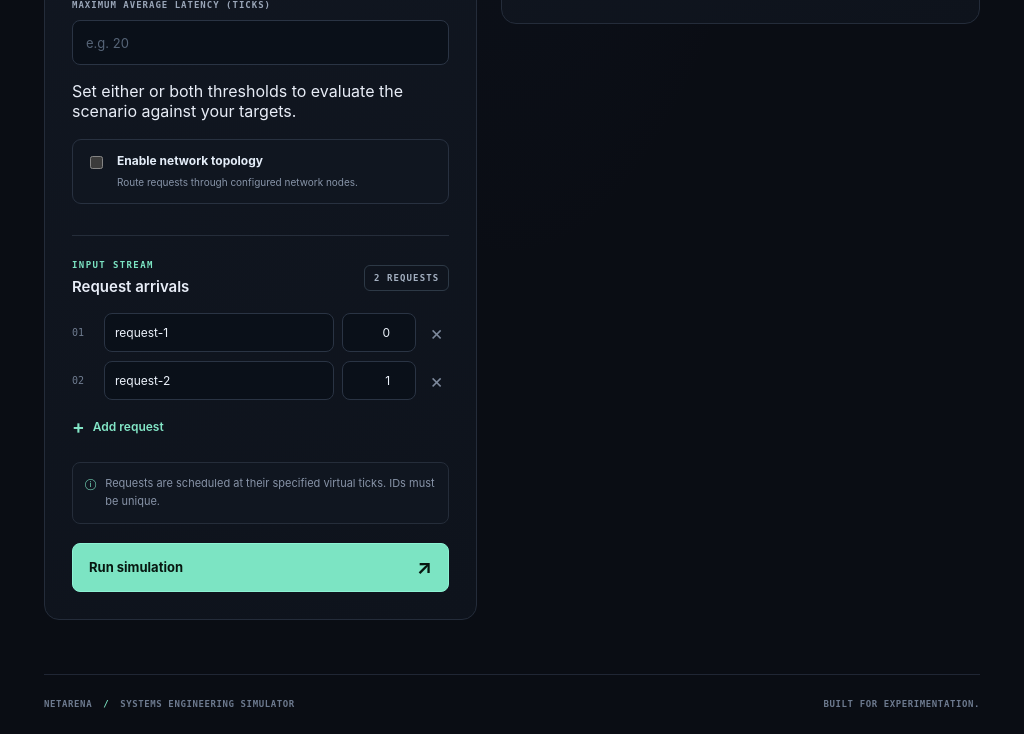
Test case: NetArena dashboard › renders failing objective evaluation
The width and height of the screenshot is (1024, 734).
(page scrolled)
What coordinates should you click on to do the following:
click the button "Run simulation ↗"
I would click on:
 (136, 567)
Its box is [72,543,449,592].
(page scrolled)
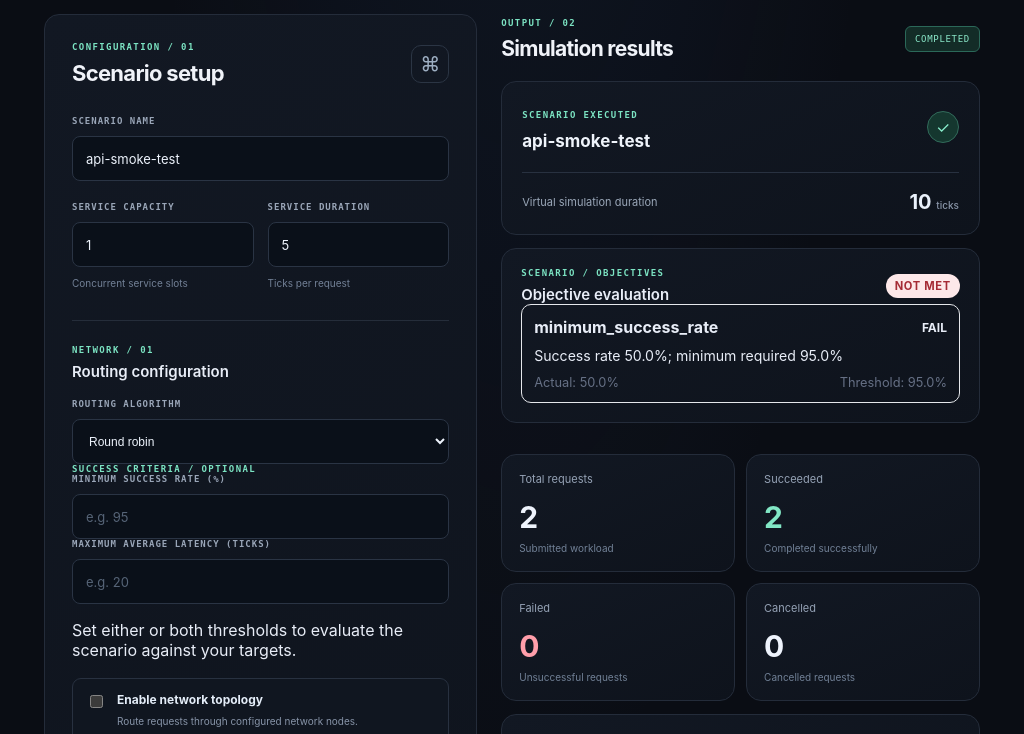
Expected: the text "NOT MET" is shown, [886,274,960,298]
Expected: the text "minimum_success_rate" is shown, [534,317,718,337]
Expected: the text "FAIL" is shown, [922,320,947,335]
